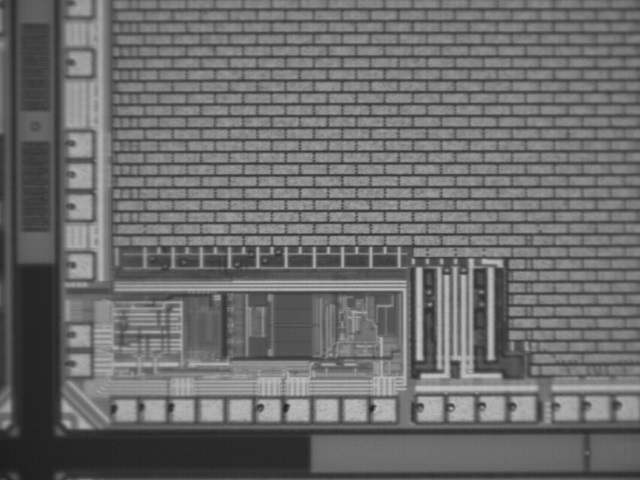shift: (61, 47, 96, 80), (61, 128, 96, 161), (60, 158, 95, 191), (59, 189, 94, 222), (61, 249, 96, 282), (58, 318, 93, 351), (60, 349, 95, 382), (107, 393, 142, 426), (134, 394, 169, 427), (163, 393, 198, 426), (250, 393, 285, 426), (278, 393, 313, 426), (365, 394, 400, 427), (411, 392, 446, 425), (442, 391, 477, 424), (474, 391, 509, 424), (504, 390, 539, 423), (547, 390, 582, 423), (578, 390, 613, 423), (611, 391, 640, 425)
